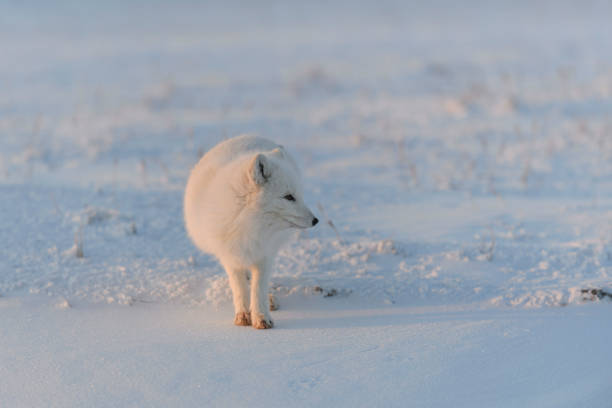arcticfox: (256, 160, 320, 235)
